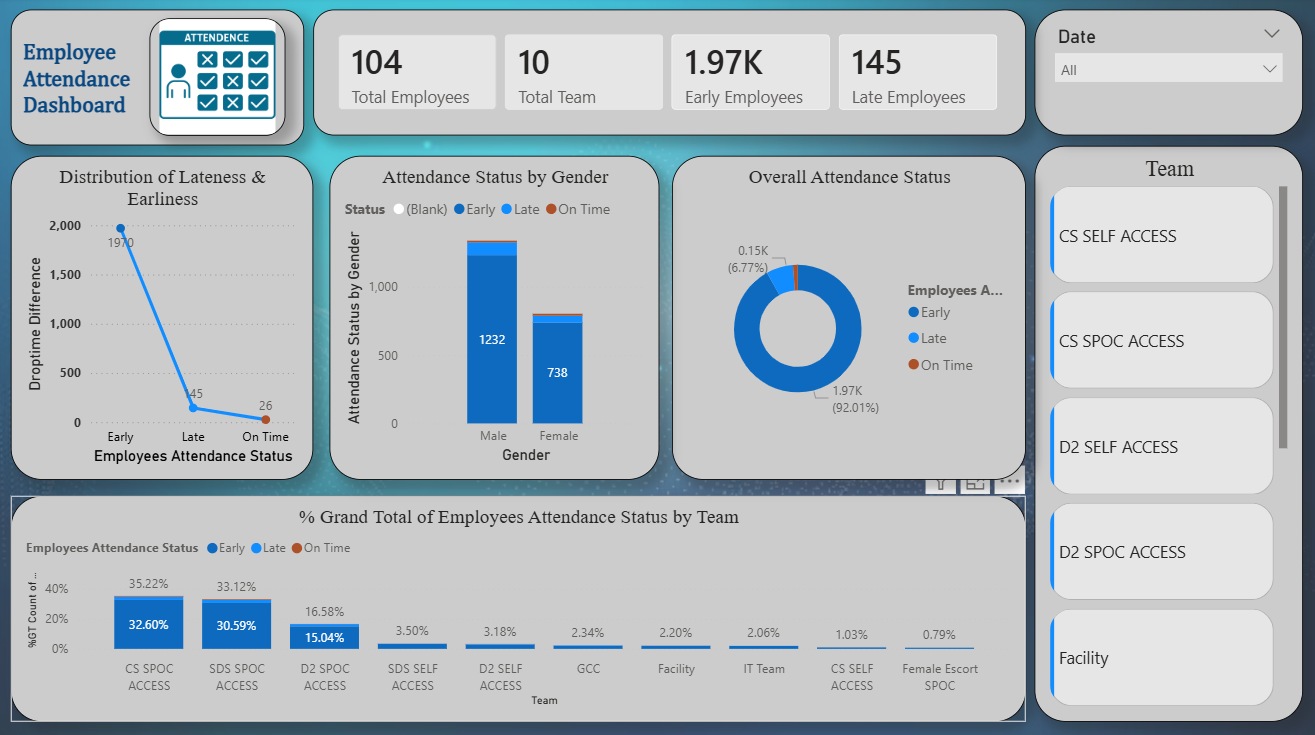

The dashboard page shown, as its layout file describes it:
{"tool":"powerbi","page":{"name":"Page 1","canvas":[1280,720],"ordinal":0},"visuals":[{"type":"textbox","box":[13.3,12.1,283.5,131.5],"z":0},{"type":"lineChart","title":"Distribution of Lateness & Earliness","fields":{"Y":["CountNonNull(Sheet1.Droptime Difference)"],"Category":["Sheet1.Employees Attendance Status"]},"box":[13.3,153.2,292,312.5],"z":1000},{"type":"columnChart","title":"% Grand Total of Employees Attendance Status by Team","fields":{"Category":["Sheet1.Team"],"Y":["Divide(CountNonNull(Sheet1.Employees Attendance Status), ScopedEval(CountNonNull(Sheet1.Employees Attendance Status), []"],"Series":["Sheet1.Employees Attendance Status"]},"box":[13.3,481.4,979.6,218.4],"z":2000},{"type":"advancedSlicerVisual","fields":{"Values":["Sheet1.Team"]},"box":[1001.3,143.6,259.4,556.2],"z":3000},{"type":"slicer","fields":{"Values":["Sheet1.Date"]},"box":[1001.3,12.1,259.4,121.9],"z":4000},{"type":"donutChart","title":"Overall Attendance Status","fields":{"Y":["CountNonNull(Sheet1.Employees Attendance Status)"],"Category":["Sheet1.Employees Attendance Status"]},"box":[651.5,153.2,341.4,312.5],"z":5000},{"type":"cardVisual","fields":{"Data":["Count(Sheet1.EMP Name)","Count(Sheet1.Team)","Sheet1.EarlyCount","Sheet1.LateCount"]},"box":[305.2,12.1,687.7,121.9],"z":6000},{"type":"columnChart","title":"Attendance Status by Gender","fields":{"Y":["CountNonNull(Sheet1.Employees Attendance Status)"],"Category":["Sheet1.Gender"],"Series":["Sheet1.Employees Attendance Status"]},"box":[320.9,153.2,318.5,312.5],"z":7000},{"type":"image","box":[147.2,20.5,131.5,113.4],"z":8000}]}

Visuals, with their boxes in screenshot pixels (x1, y1, x2, y2), scaled from the page's 1280x720 canvas onto the 1315x735 screenshot:
textbox: 14/12/305/147
"Distribution of Lateness & Earliness" lineChart: 14/156/314/475
"% Grand Total of Employees Attendance Status by Team" columnChart: 14/491/1020/714
advancedSlicerVisual - Sheet1.Team: 1029/147/1295/714
slicer - Sheet1.Date: 1029/12/1295/137
"Overall Attendance Status" donutChart: 669/156/1020/475
cardVisual - Count(Sheet1.EMP Name) x Count(Sheet1.Team): 314/12/1020/137
"Attendance Status by Gender" columnChart: 330/156/657/475
image: 151/21/286/137
